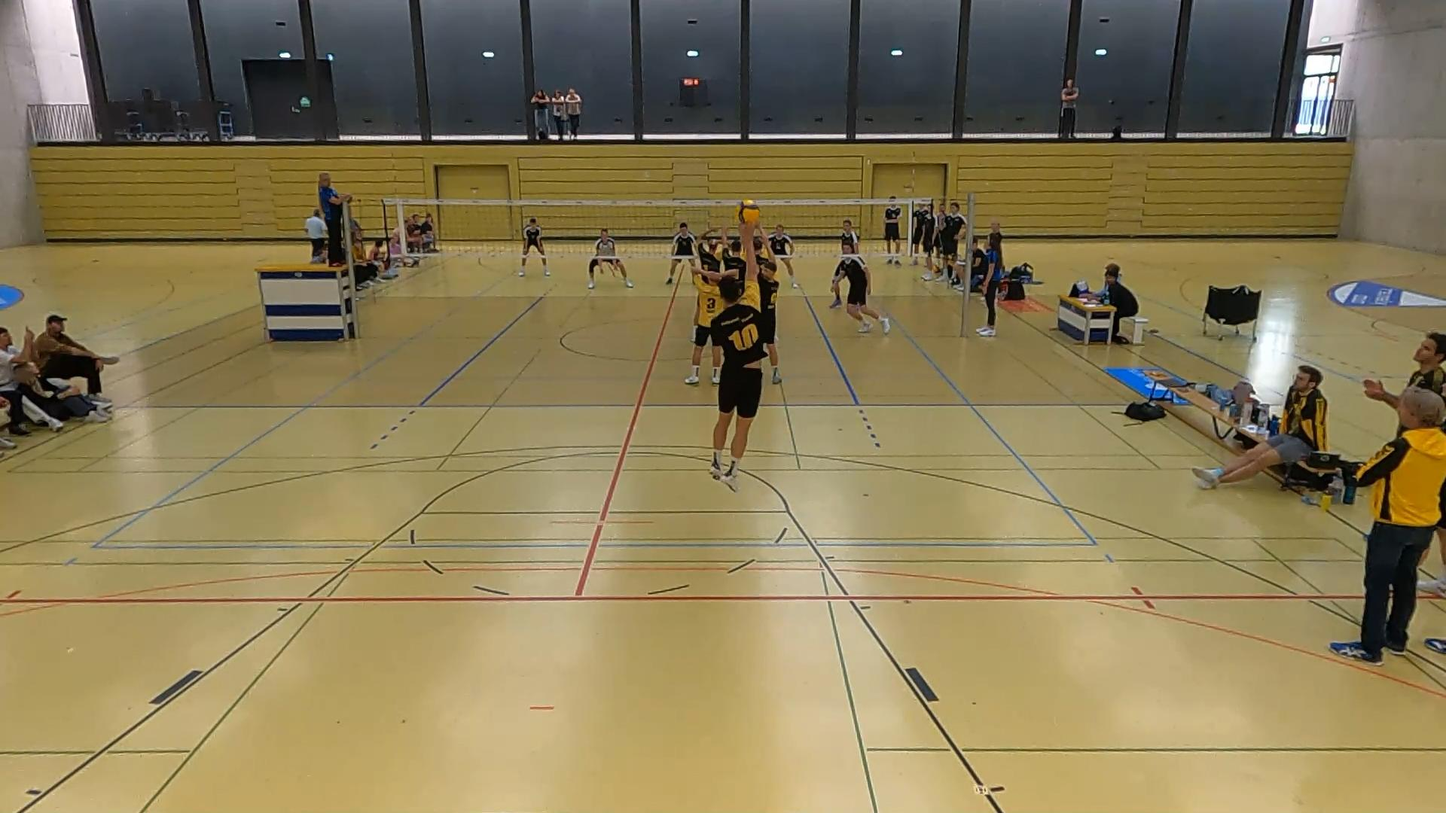Player: (685, 266, 723, 385), (752, 232, 781, 384), (835, 255, 889, 334), (758, 258, 781, 384), (587, 229, 633, 289), (666, 222, 697, 284), (768, 224, 798, 288), (518, 218, 549, 276), (698, 228, 725, 273), (840, 220, 863, 263), (721, 236, 745, 277)
Serve: (679, 249, 798, 485)
ball: (736, 196, 759, 226)
